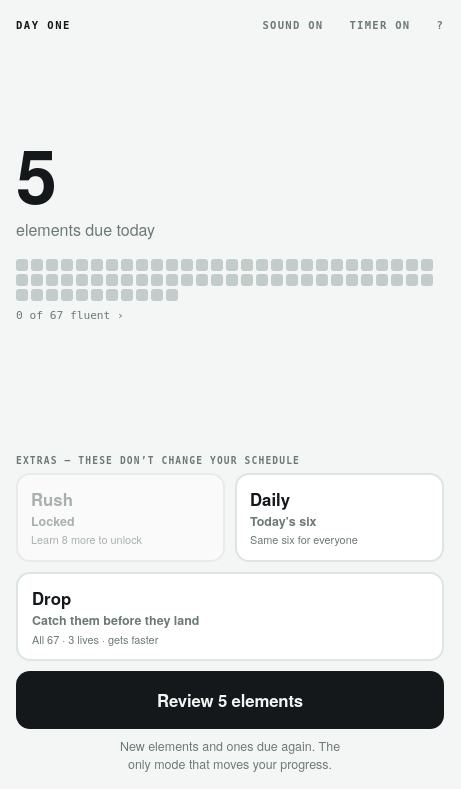
Test case: Drop › spends a life when the element lands
Step 1. Click the button "Drop" → (52, 598), box [16, 572, 444, 661]
Wait 7160 ms
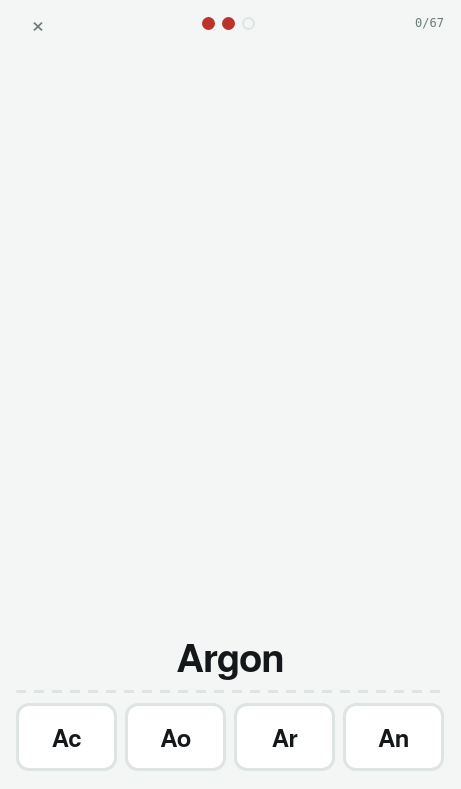
Check: the element named "2 lives left" is shown, box [202, 16, 254, 30]
